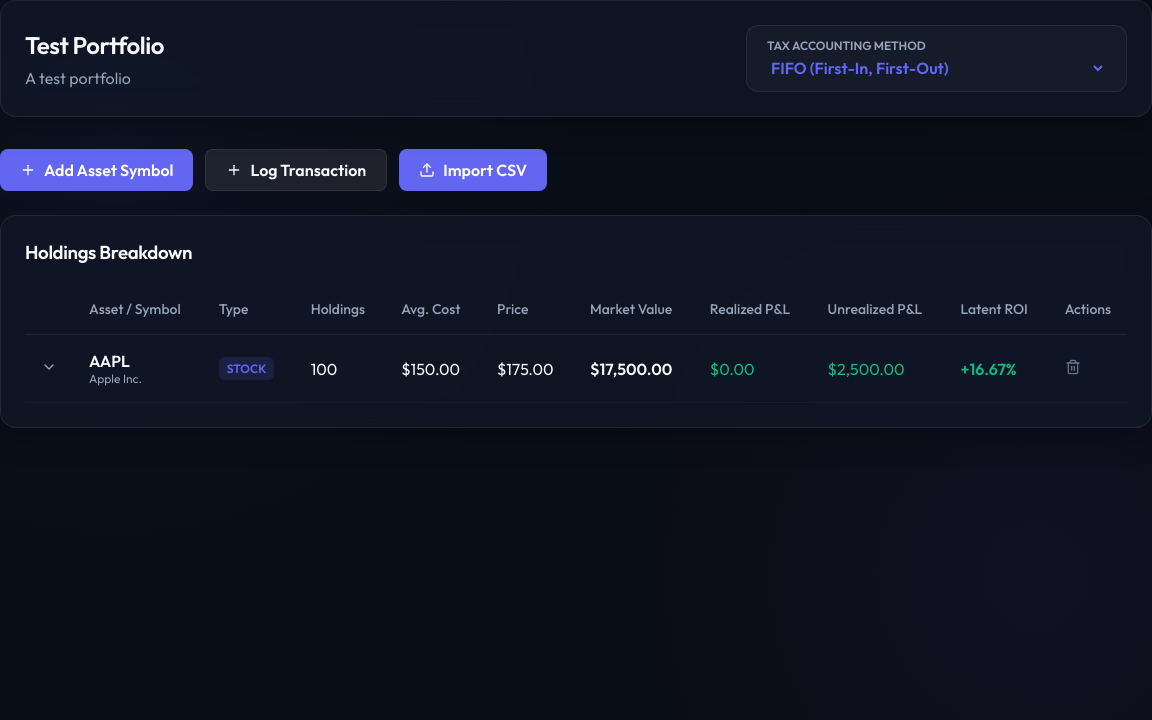
Scenario: PortfolioDetail › opens transaction modal when "Log Transaction" is clicked
The width and height of the screenshot is (1152, 720).
Click the button "Log Transaction" at (296, 170), box [205,149,387,191]
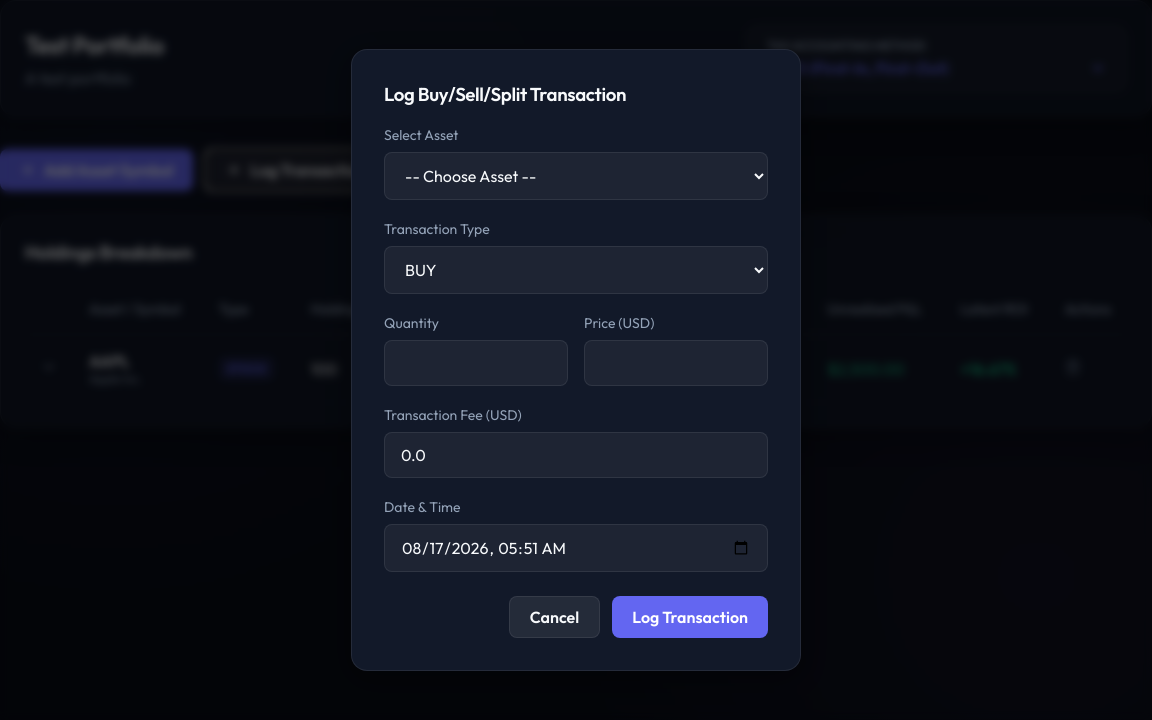
expect the heading "Log Buy/Sell/Split Transaction" is shown: met, box [384,82,626,106]
